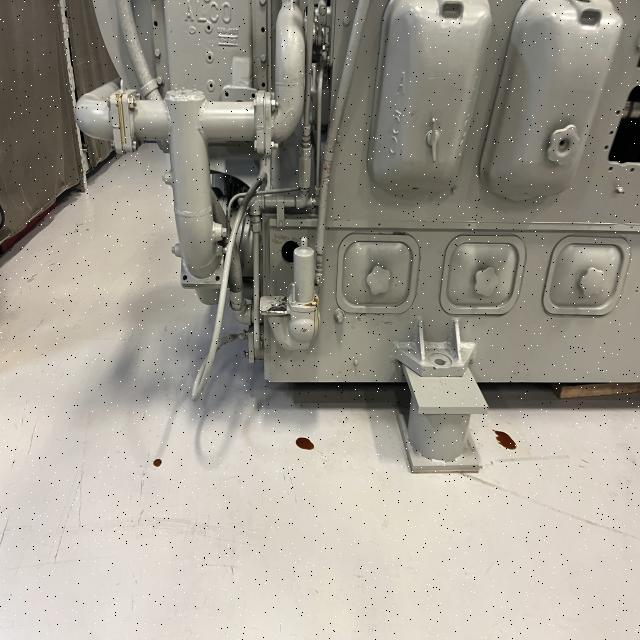Oil Leak: (109, 80, 137, 154), (286, 291, 321, 345), (490, 425, 518, 454), (295, 437, 315, 451), (153, 458, 162, 467)
